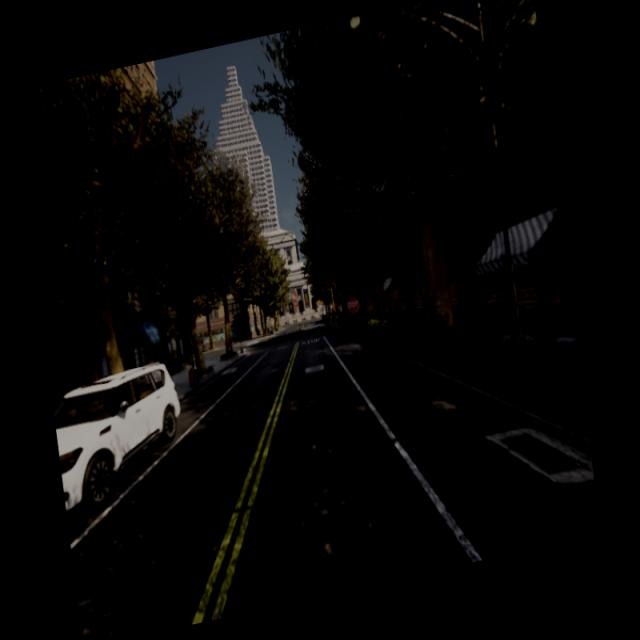stop sign: (344, 293, 360, 315)
